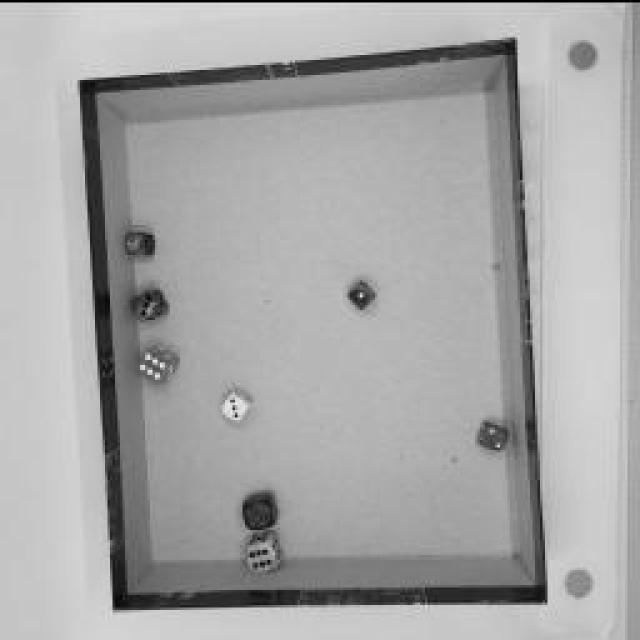dice_1: (348, 279, 378, 306)
dice_2: (476, 416, 512, 449), (125, 228, 157, 252)
dice_3: (131, 284, 171, 321), (222, 389, 252, 419)
dice_5: (239, 490, 281, 530)
dice_6: (136, 344, 182, 384), (245, 530, 287, 570)
